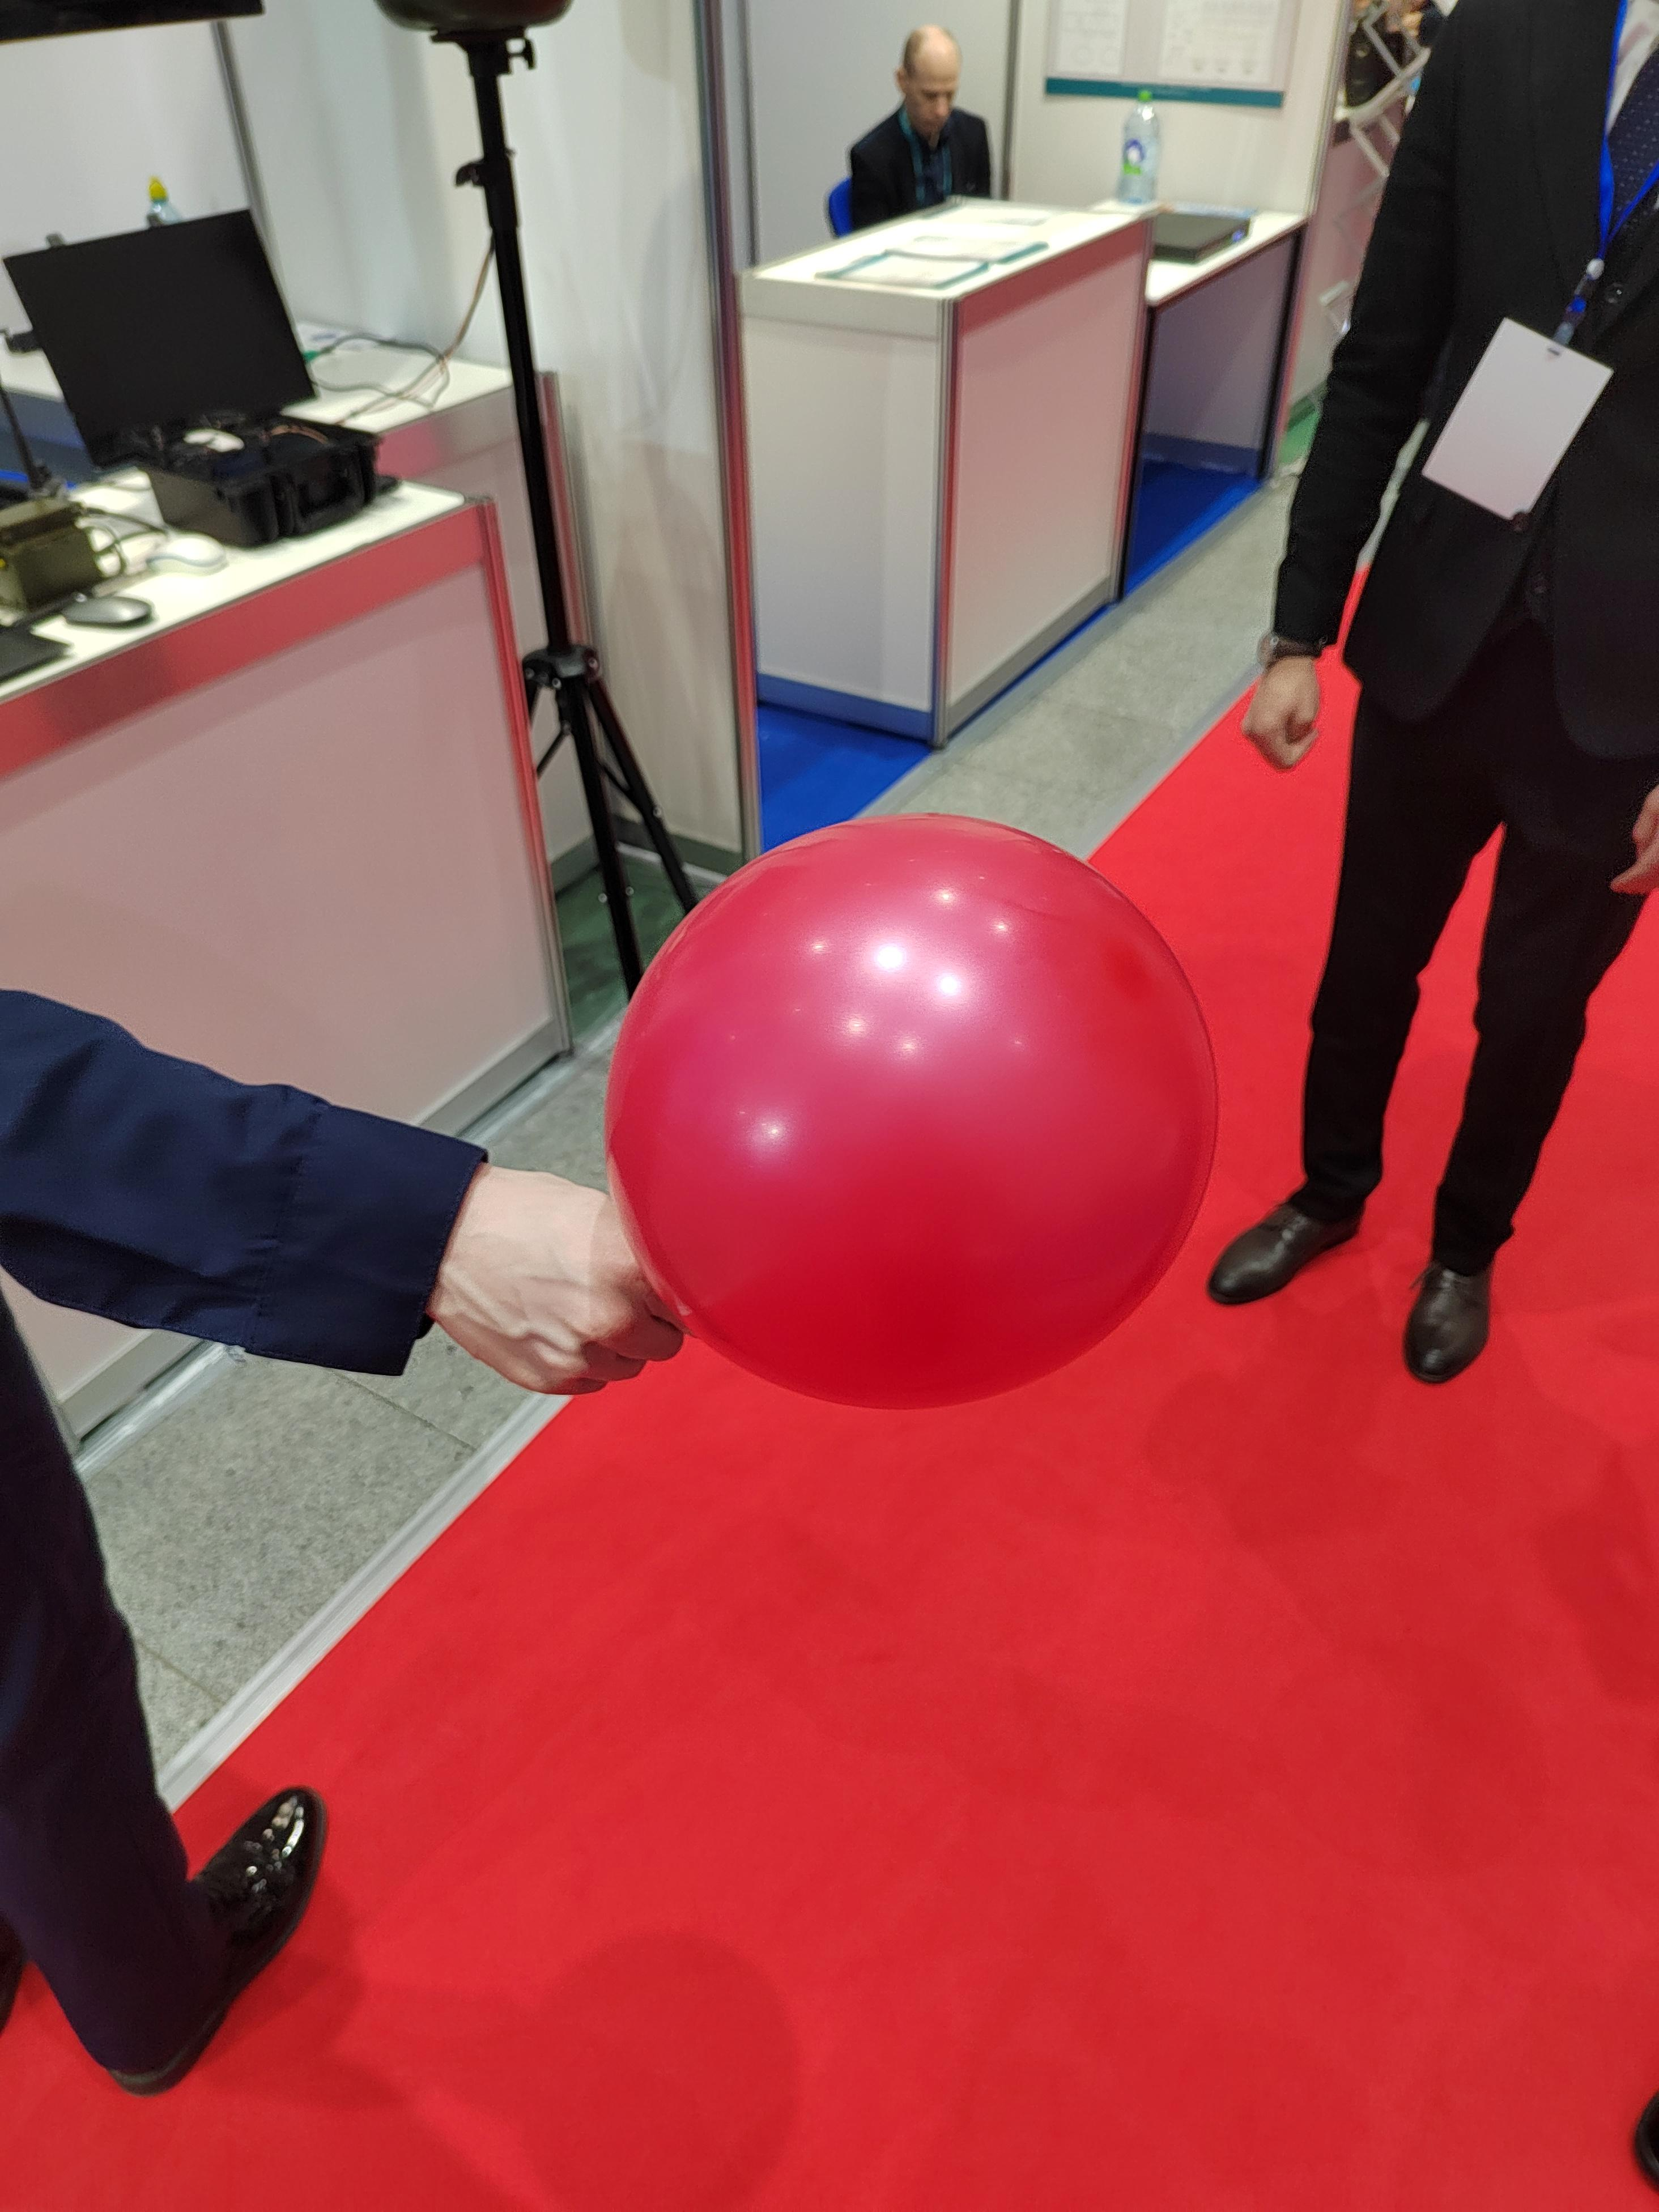red: (579, 794, 1208, 1418)
